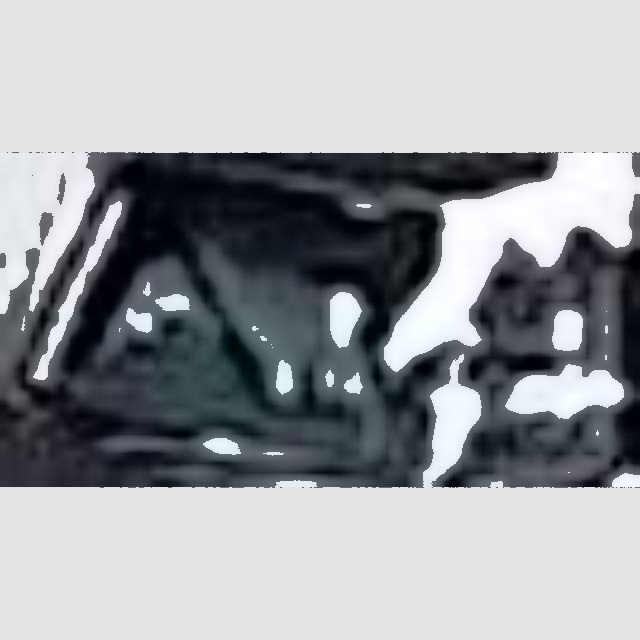pakai: (143, 220, 344, 420)
